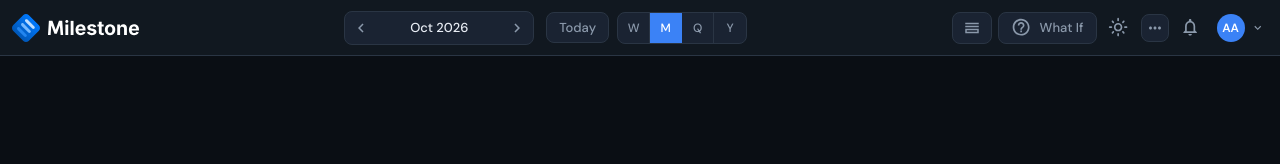
Header density › renders each control exactly once at condensed
Click the button named "More controls" at (1154, 28), box [1140, 14, 1168, 42]
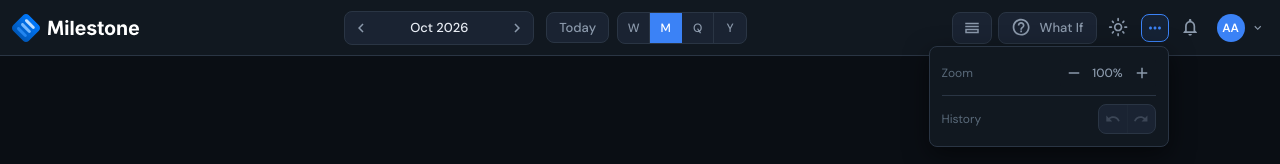
Expected: the number of buttons named "Zoom in" is 1, [1130, 60, 1154, 84]
Expected: the number of buttons named "Zoom out" is 1, [1062, 60, 1086, 84]
Expected: the number of buttons named "Undo" is 1, [1098, 104, 1126, 132]
